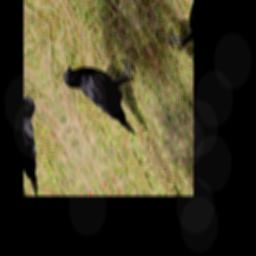Crow: (60, 35, 163, 159)
